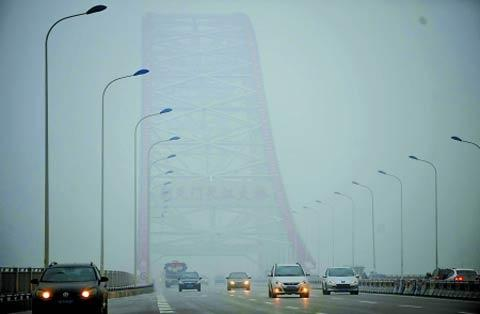bus: (162, 260, 188, 288)
car: (27, 260, 110, 314), (423, 266, 480, 295), (265, 262, 311, 297), (320, 266, 361, 296), (224, 271, 252, 291), (176, 271, 202, 292), (195, 273, 209, 286), (213, 274, 227, 285)
